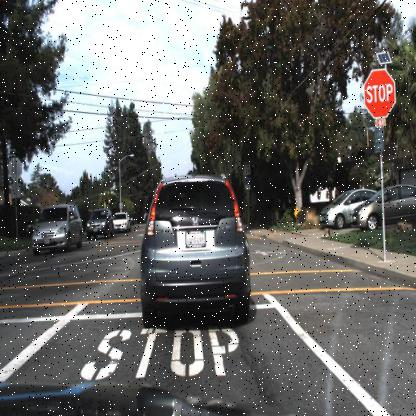car: (131, 166, 261, 344), (28, 196, 88, 262), (349, 181, 415, 233), (318, 184, 371, 230), (82, 200, 115, 245), (316, 193, 350, 231), (109, 209, 133, 236)
